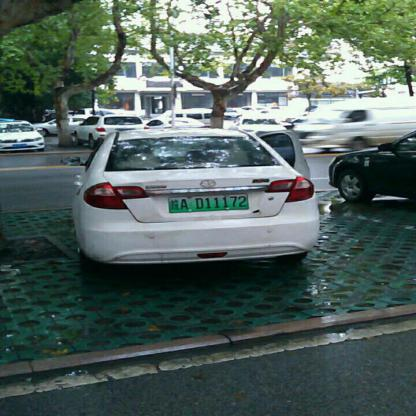lp: (168, 194, 249, 212)
